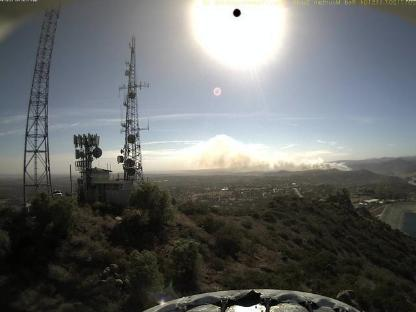smoke: (188, 133, 352, 173)
